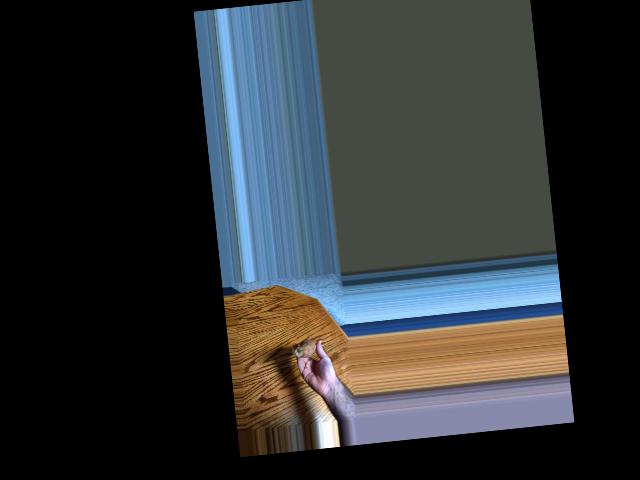sweet_potato: (292, 331, 320, 358)
